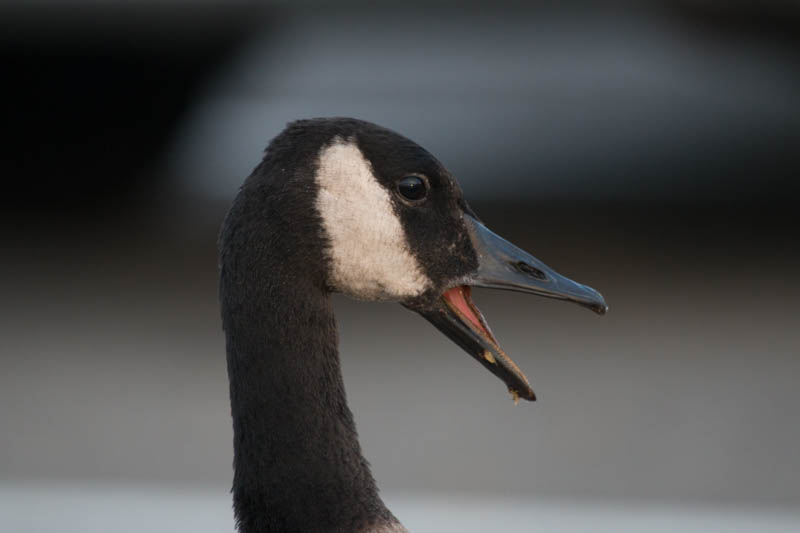goose-head: (218, 120, 608, 403)
